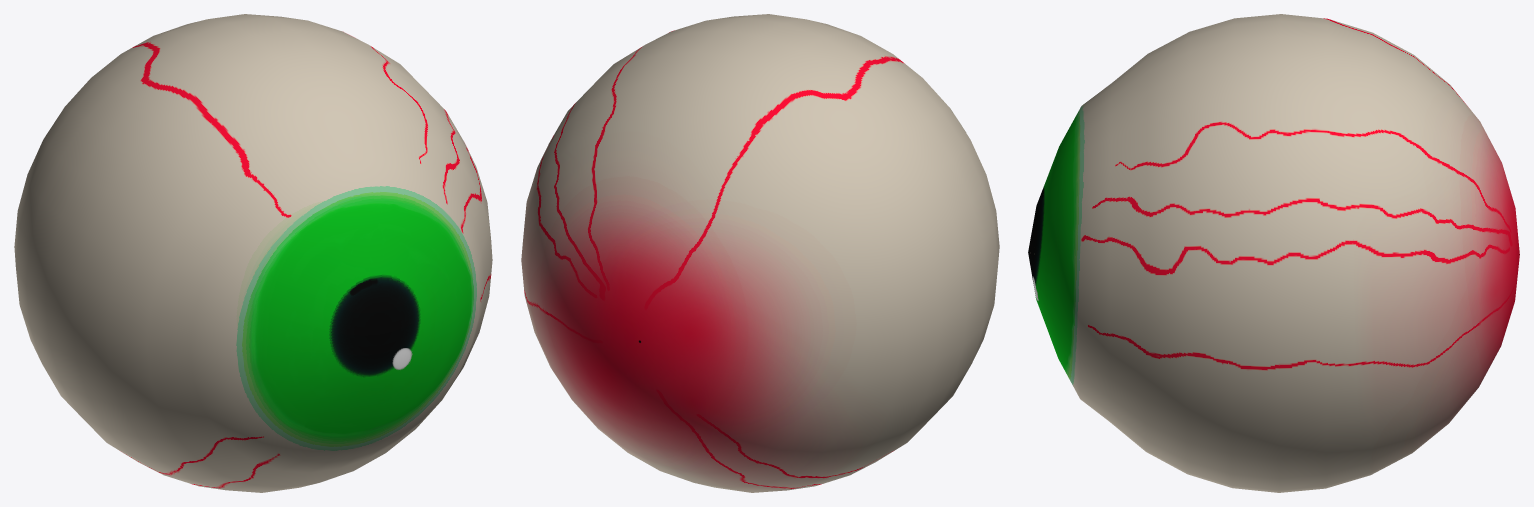
Rendered from Eyeball.fbx.
3 renders of one model, left to right at view 1: azimuth 30°, elevation 25°; view 2: azimuth 150°, elevation 25°; view 3: azimuth 270°, elevation 25°, orthographic.
Visible parts, largest first — view 1: Eye; view 2: Eye; view 3: Eye.
Part boxes in pixels (x1=…): Eye: x1=14, y1=14, x2=492, y2=492; Eye: x1=521, y1=14, x2=999, y2=492; Eye: x1=1028, y1=14, x2=1519, y2=492.
Size of the model in its own units: 142 by 142 by 145.
Materials: 1 (1 with a texture image).
